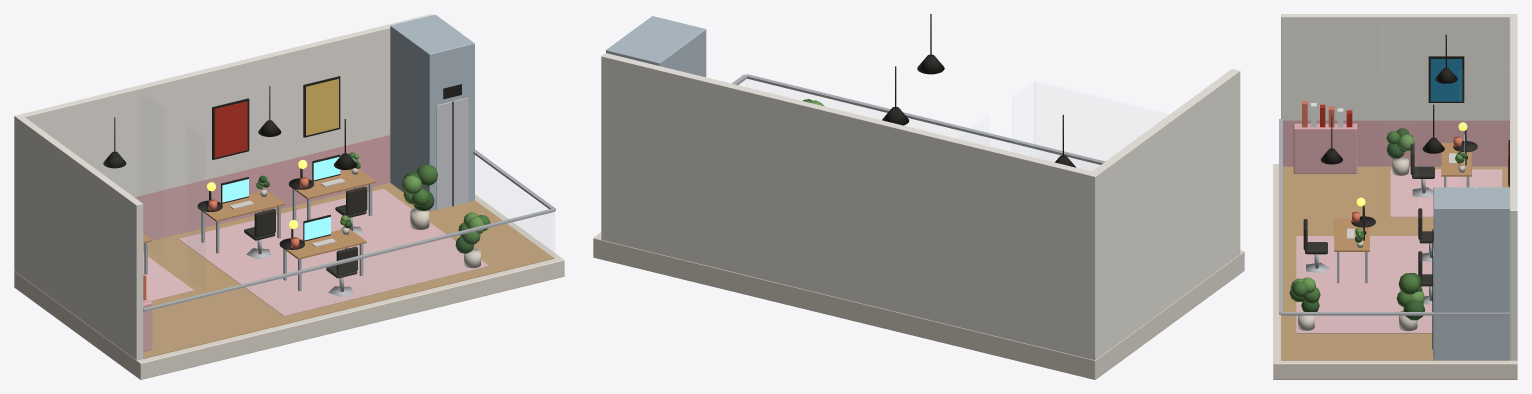
The picture shows the model from 3 angles, left to right: view 1: azimuth 30°, elevation 25°; view 2: azimuth 150°, elevation 25°; view 3: azimuth 270°, elevation 25°; orthographic projection. The views are drawn at different scales.
Parts seen in each view (by area): view 1: LM_P4, Cube.031, Cube.053; view 2: LM_P4; view 3: LM_P4.
Part boxes in pixels (<box>): LM_P4: <box>14,14,564,379</box>; Cube.031: <box>222,179,248,202</box>; Cube.053: <box>304,217,330,240</box>; LM_P4: <box>593,14,1244,379</box>; LM_P4: <box>1273,14,1517,379</box>.
Size of the model in its own units: 9.3 by 3.8 by 4.8.
